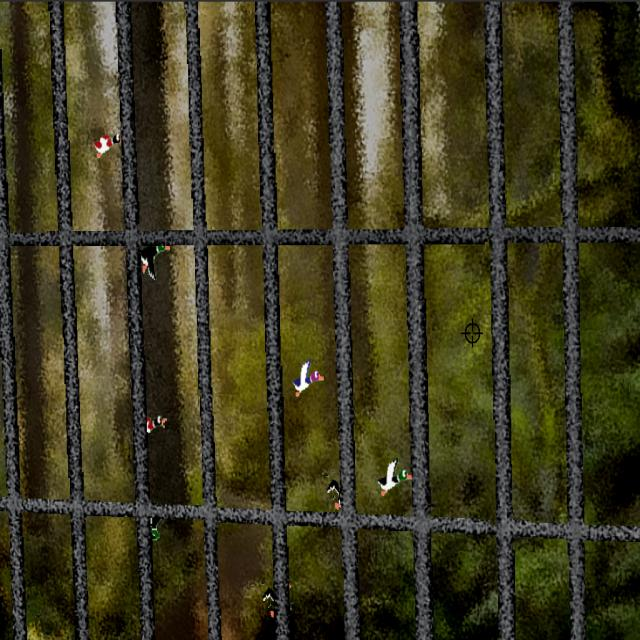duck: (288, 360, 326, 407), (376, 449, 414, 496), (87, 126, 124, 165), (138, 238, 170, 282), (144, 407, 171, 445), (145, 512, 166, 543)
falling_duck: (260, 576, 296, 623), (326, 474, 346, 517)
